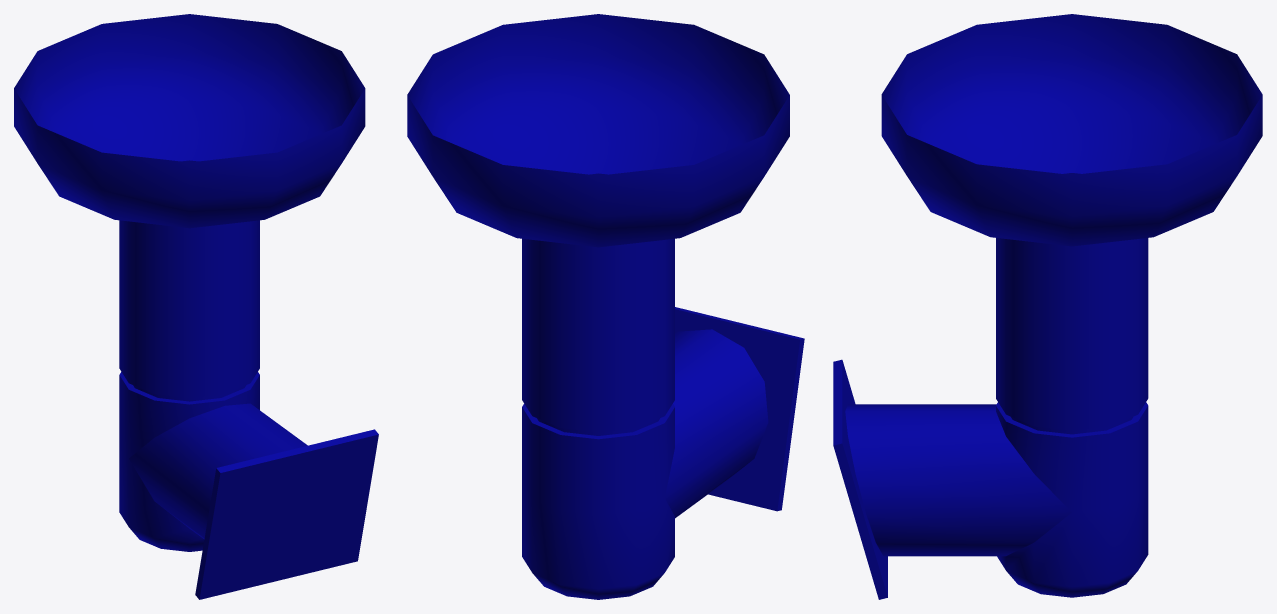
The model's file is camera_arm.fbx.
The picture shows the model from 3 angles, left to right: view 1: azimuth 30°, elevation 25°; view 2: azimuth 150°, elevation 25°; view 3: azimuth 270°, elevation 25°; orthographic projection. The views are drawn at different scales.
Parts seen in each view (by area): view 1: camera_arm; view 2: camera_arm; view 3: camera_arm.
Part boxes in pixels (bbox=[...]): camera_arm: bbox=[14, 14, 378, 599]; camera_arm: bbox=[407, 14, 804, 599]; camera_arm: bbox=[833, 14, 1262, 599].
Size of the model in its own units: 25 by 34.84 by 28.16.
